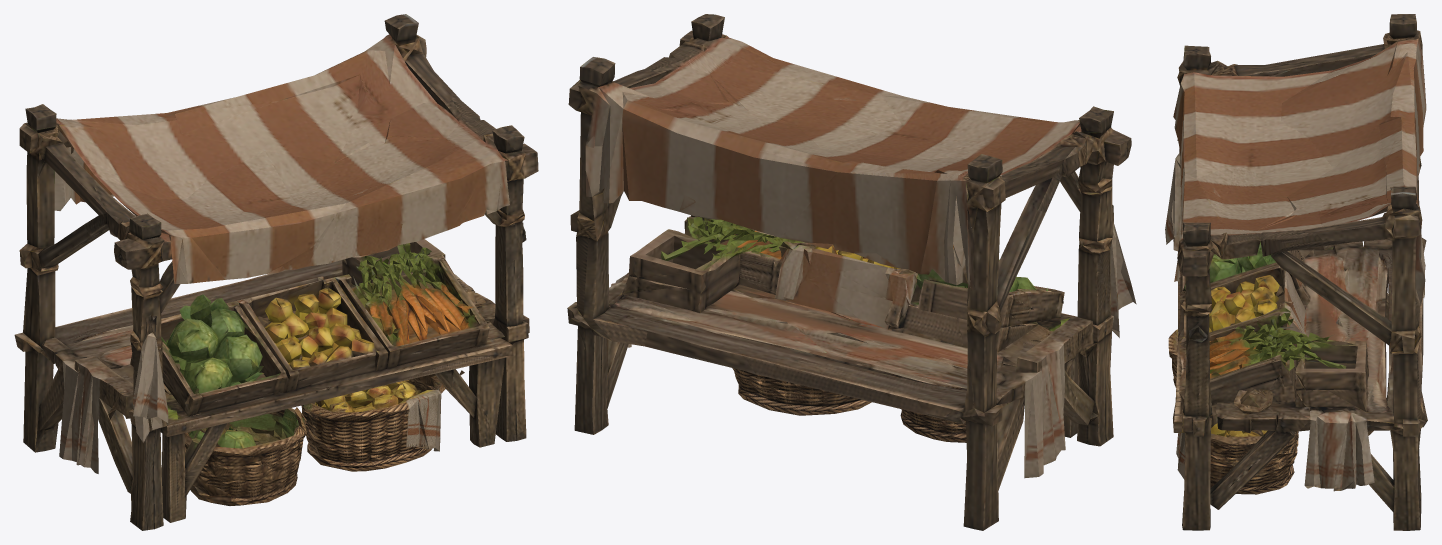
File: market.glb
The picture shows the model from 3 angles, left to right: view 1: azimuth 30°, elevation 25°; view 2: azimuth 150°, elevation 25°; view 3: azimuth 270°, elevation 25°; orthographic projection. The views are drawn at different scales.
Bounding box in the file's own units: 1.9 × 1.49 × 1.06.
1 material, 1 textured.
